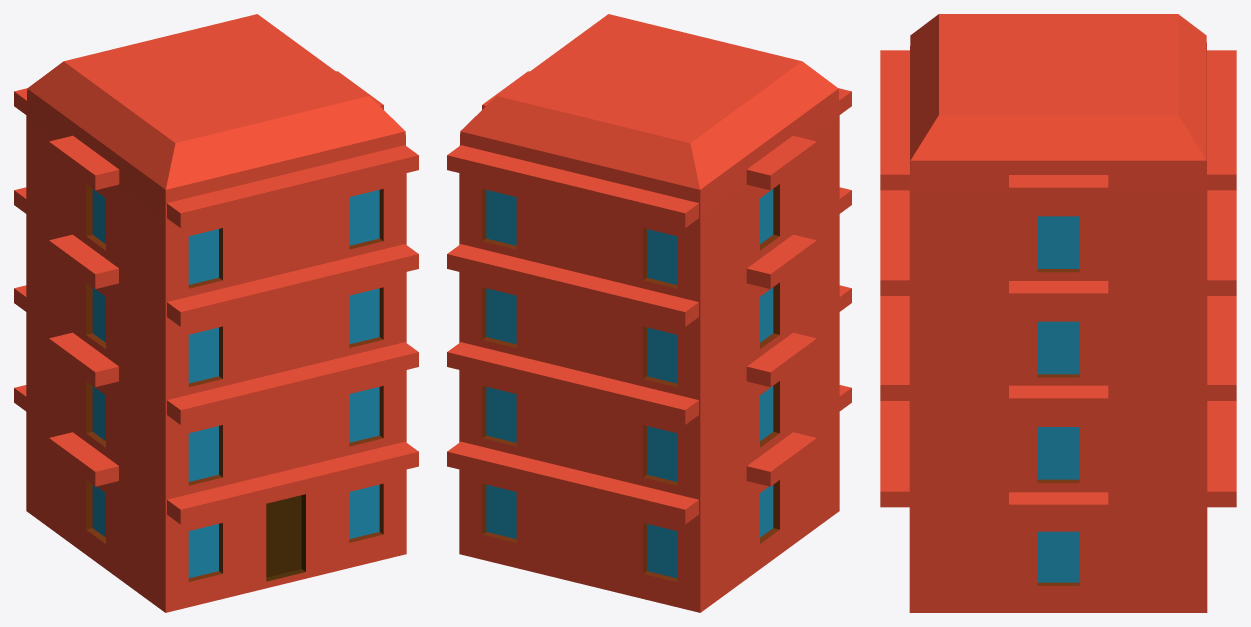
The model's file is apartment2.glb.
3 renders of one model, left to right at view 1: azimuth 30°, elevation 25°; view 2: azimuth 150°, elevation 25°; view 3: azimuth 270°, elevation 25°, orthographic. The views are drawn at different scales.
Parts seen in each view (by area): view 1: apartment; view 2: apartment; view 3: apartment.
Part boxes in pixels (box(x1,y1,x2,y2)): apartment: box(14, 14, 418, 612); apartment: box(447, 14, 851, 612); apartment: box(880, 14, 1236, 612).
Size of the model in its own units: 11.98 by 18 by 11.97.
Materials: 1 (1 with a texture image).
